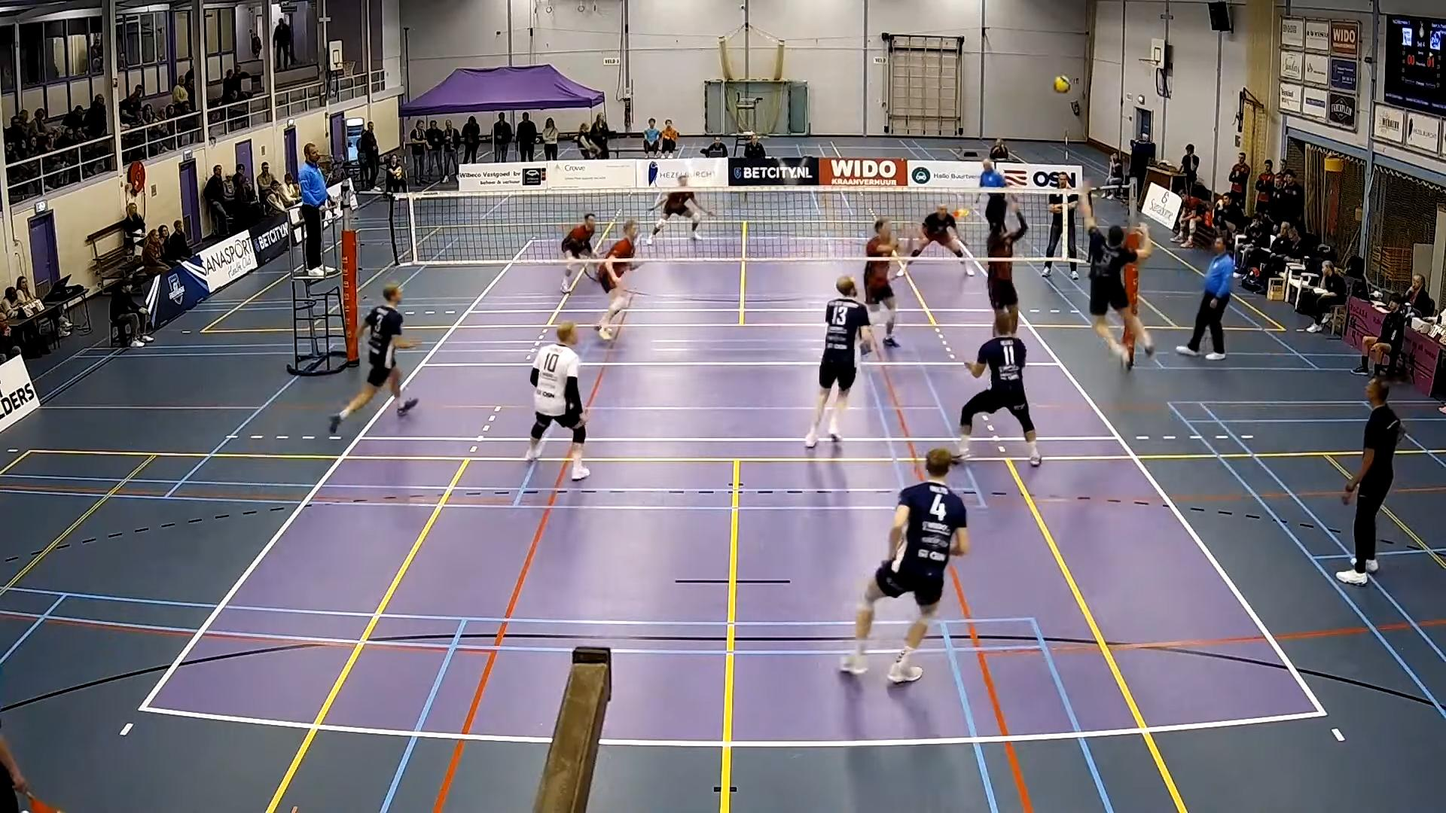Attack: (1074, 192, 1156, 372)
Player: (841, 448, 969, 683), (955, 312, 1041, 466), (330, 282, 417, 434), (805, 276, 873, 448), (525, 322, 589, 480), (864, 218, 905, 347), (987, 205, 1027, 333), (596, 219, 638, 340), (646, 175, 712, 244), (911, 204, 974, 276), (561, 214, 595, 293)
ball: (1050, 78, 1075, 95)
